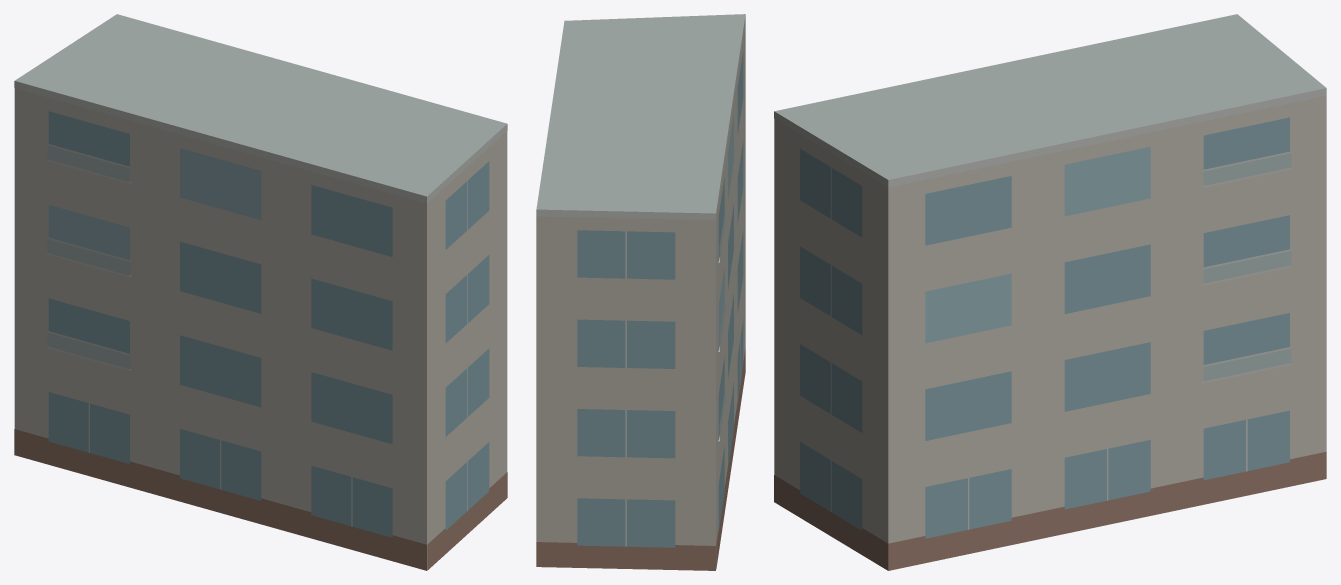
Rendered from survey-upis-32768303.glb.
The picture shows the model from 3 angles, left to right: view 1: azimuth 30°, elevation 25°; view 2: azimuth 150°, elevation 25°; view 3: azimuth 270°, elevation 25°; orthographic projection. The views are drawn at different scales.
Parts seen in each view (by area): view 1: survey-upis-32768303.tmp; view 2: survey-upis-32768303.tmp; view 3: survey-upis-32768303.tmp.
Part boxes in pixels (x1,y1,x2,y2): survey-upis-32768303.tmp: (14, 14, 507, 570); survey-upis-32768303.tmp: (536, 14, 745, 570); survey-upis-32768303.tmp: (774, 14, 1326, 570).
Bounding box in the file's own units: 11.67 × 12.8 × 16.41.
